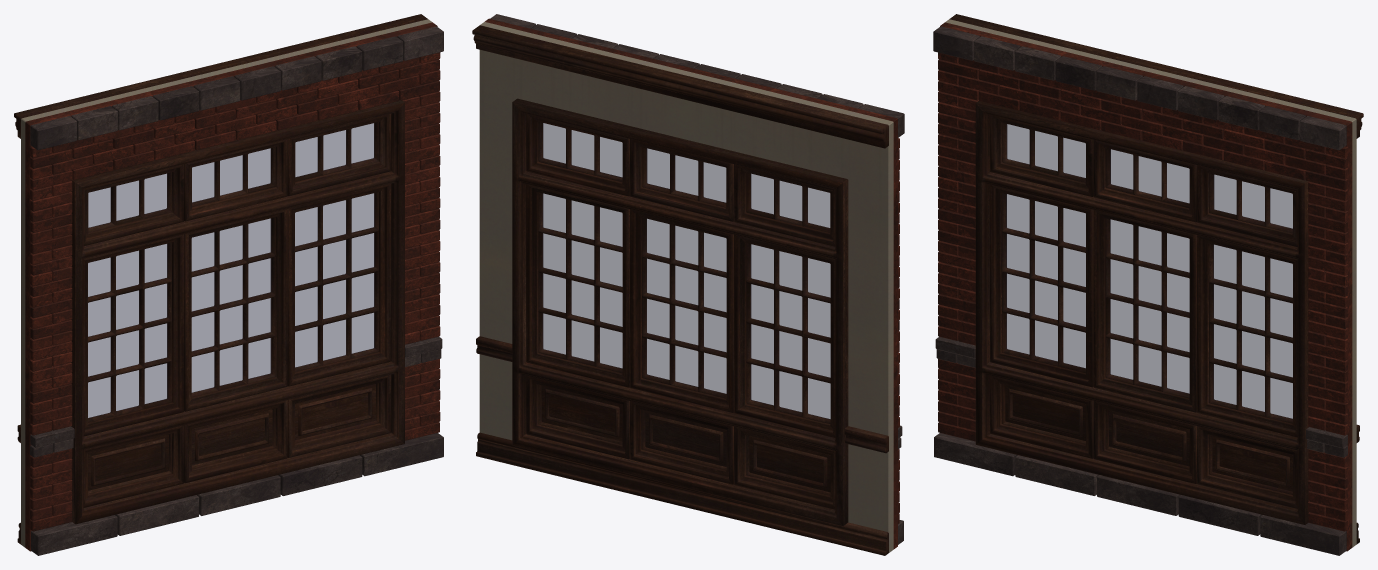
The model's file is SK1 WINDOW3.fbx.
3 views of the same model, side by side, from view 1: azimuth 30°, elevation 25°; view 2: azimuth 150°, elevation 25°; view 3: azimuth 330°, elevation 25° (orthographic).
Visible parts, largest first — view 1: SK1 WINDOW3.008; view 2: SK1 WINDOW3.008; view 3: SK1 WINDOW3.008.
Boxes of the visible parts, x1=… form: SK1 WINDOW3.008: x1=14, y1=14, x2=443, y2=555; SK1 WINDOW3.008: x1=472, y1=14, x2=904, y2=555; SK1 WINDOW3.008: x1=933, y1=14, x2=1363, y2=555.
Bounding box in the file's own units: 400 × 400 × 39.92.
